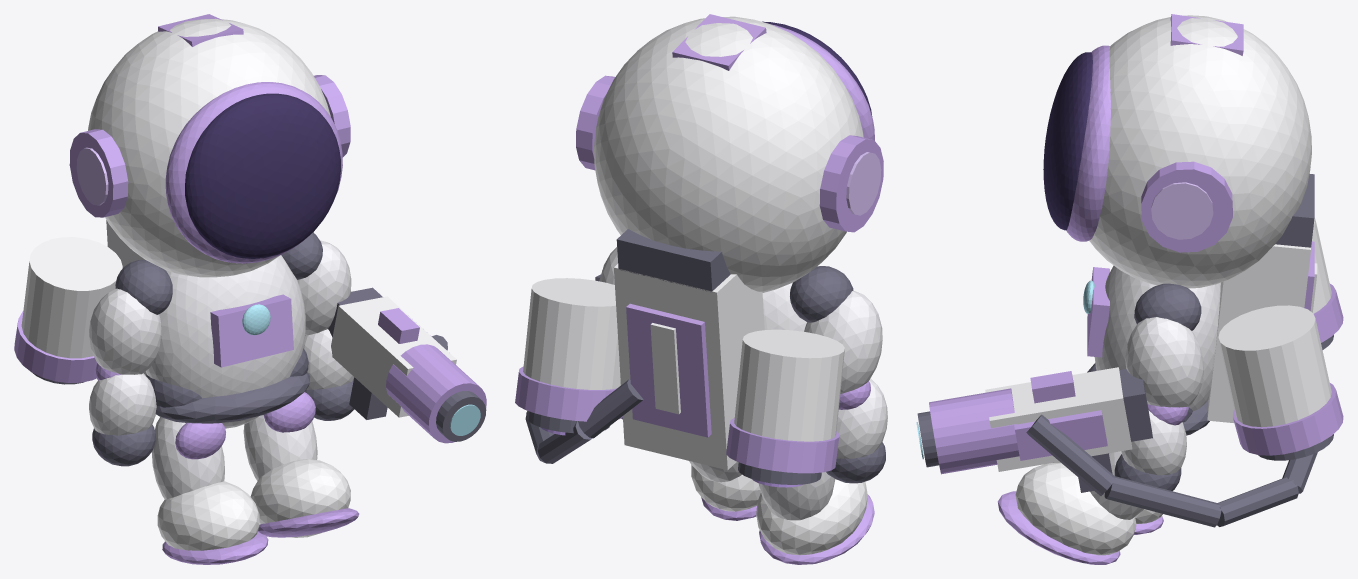
The model's file is OxygenTrooper_JetAscend.fbx.
The picture shows the model from 3 angles, left to right: view 1: azimuth 30°, elevation 25°; view 2: azimuth 150°, elevation 25°; view 3: azimuth 270°, elevation 25°; orthographic projection. The views are drawn at different scales.
Visible parts, largest first — view 1: Helmet_Shell, Visor_Tinted, Torso_Main, L_ThrusterBody, Gun_MainBody, L_Boot, Visor_Frame, L_ArmUpper, R_Boot, Gun_Barrel, Chest_Panel, Belt (+25 smaller); view 2: Helmet_Shell, Tank_Main, L_ThrusterBody, R_ThrusterBody, Tank_FrontPlate, L_Boot, Tank_TopCap, L_ArmUpper, L_ThrusterPurple, Helmet_Earpad_-1, R_ThrusterPurple, L_Forearm (+19 smaller); view 3: Helmet_Shell, R_ThrusterBody, R_Boot, Tank_Main, Gun_Barrel, Gun_MainBody, Visor_Tinted, R_ArmUpper, Torso_Main, Visor_Frame, Helmet_Earpad_1, R_ThrusterPurple (+22 smaller).
Part boxes in pixels (bbox=[...]): Helmet_Shell: bbox=[88, 18, 330, 277]; Visor_Tinted: bbox=[185, 93, 340, 258]; Torso_Main: bbox=[146, 255, 305, 428]; L_ThrusterBody: bbox=[21, 237, 122, 358]; Gun_MainBody: bbox=[331, 296, 456, 417]; L_Boot: bbox=[157, 481, 259, 550]; Visor_Frame: bbox=[165, 82, 342, 263]; L_ArmUpper: bbox=[89, 288, 161, 374]; R_Boot: bbox=[250, 459, 350, 537]; Gun_Barrel: bbox=[386, 344, 486, 443]; Chest_Panel: bbox=[210, 294, 293, 367]; Belt: bbox=[155, 372, 310, 423]; Helmet_Shell: bbox=[594, 16, 863, 292]; Tank_Main: bbox=[613, 263, 764, 470]; L_ThrusterBody: bbox=[734, 329, 844, 441]; R_ThrusterBody: bbox=[523, 278, 620, 389]; Tank_FrontPlate: bbox=[626, 303, 711, 437]; L_Boot: bbox=[756, 479, 867, 555]; Tank_TopCap: bbox=[616, 229, 730, 291]; L_ArmUpper: bbox=[804, 290, 882, 393]; L_ThrusterPurple: bbox=[726, 418, 839, 473]; Helmet_Earpad_-1: bbox=[819, 135, 883, 232]; R_ThrusterPurple: bbox=[515, 366, 622, 421]; L_Forearm: bbox=[836, 379, 887, 458]; Helmet_Shell: bbox=[1089, 15, 1311, 288]; R_ThrusterBody: bbox=[1218, 305, 1331, 427]; R_Boot: bbox=[1015, 462, 1136, 555]; Tank_Main: bbox=[1207, 244, 1310, 422]; Gun_Barrel: bbox=[929, 388, 1019, 474]; Gun_MainBody: bbox=[985, 367, 1132, 471]; Visor_Tinted: bbox=[1043, 52, 1092, 230]; R_ArmUpper: bbox=[1125, 317, 1203, 407]; Torso_Main: bbox=[1094, 265, 1220, 411]; Visor_Frame: bbox=[1066, 45, 1110, 241]; Helmet_Earpad_1: bbox=[1141, 161, 1232, 252]; R_ThrusterPurple: bbox=[1233, 383, 1343, 455].
Size of the model in its own units: 150 by 219 by 164.
